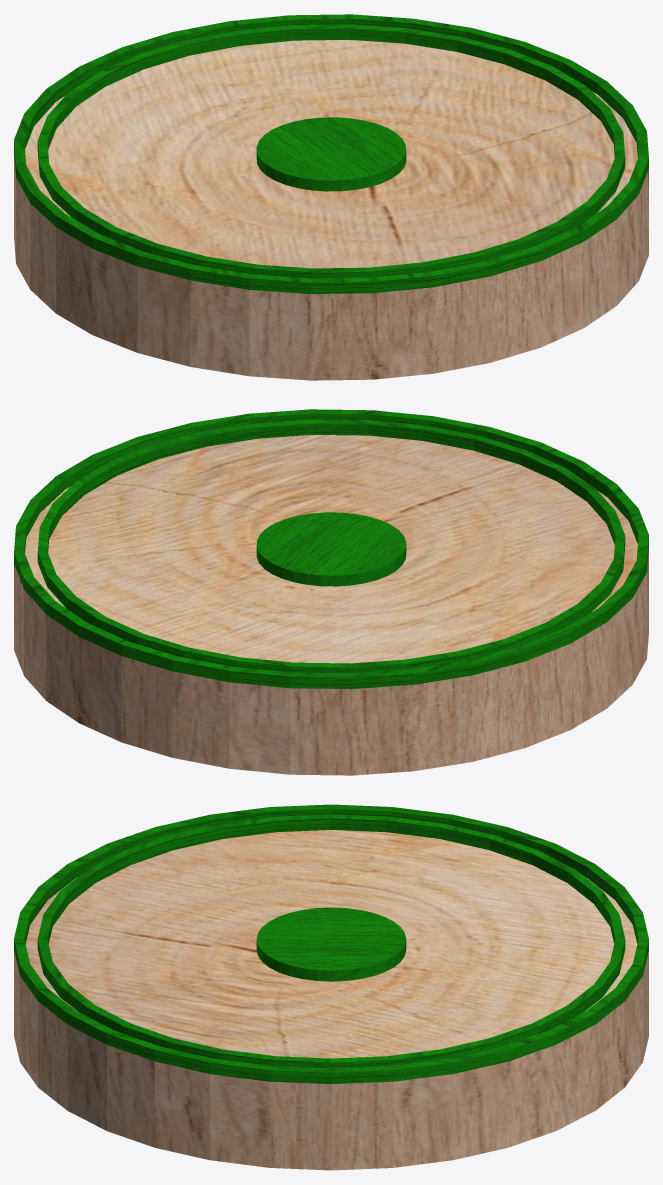
Rendered from Sonnestein1.fbx.
3 renders of one model, top to bottom at view 1: azimuth 30°, elevation 25°; view 2: azimuth 150°, elevation 25°; view 3: azimuth 270°, elevation 25°, orthographic.
Visible parts, largest first — view 1: Sonne1; view 2: Sonne1; view 3: Sonne1.
Part boxes in pixels (left/top/right/bottom): Sonne1: left=14, top=14, right=648, bottom=380; Sonne1: left=14, top=409, right=648, bottom=775; Sonne1: left=14, top=804, right=648, bottom=1170.
Size of the model in its own units: 200 by 34 by 200.
